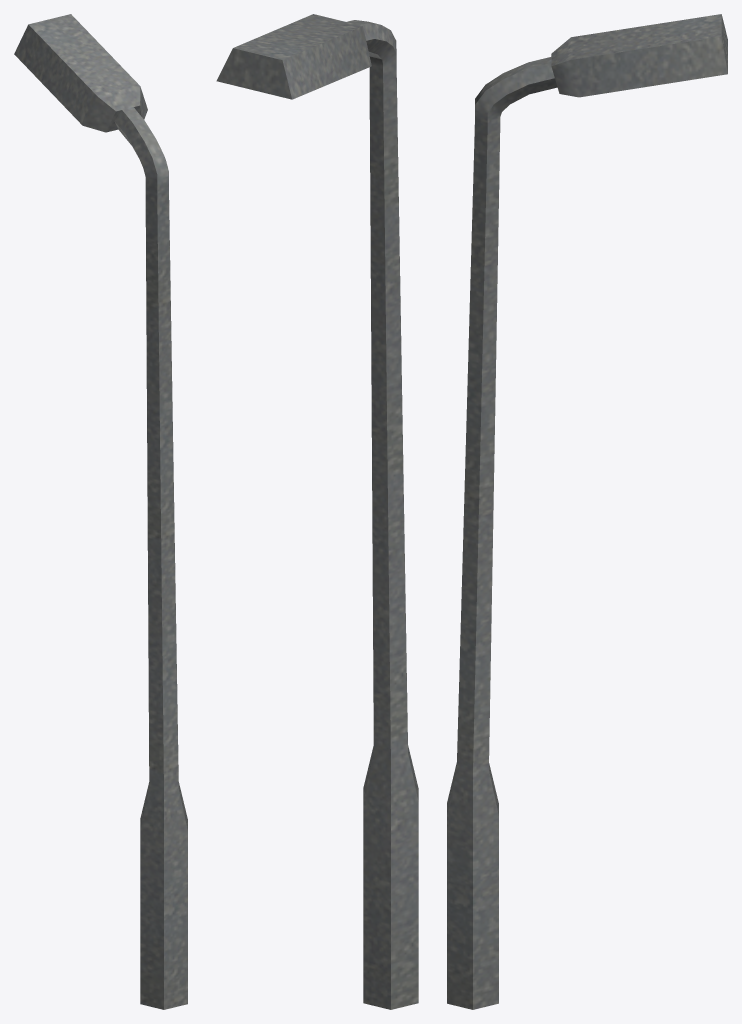
The model's file is lamp.obj.
The picture shows the model from 3 angles, left to right: view 1: azimuth 30°, elevation 25°; view 2: azimuth 150°, elevation 25°; view 3: azimuth 270°, elevation 25°; orthographic projection. The views are drawn at different scales.
Visible parts, largest first — view 1: Misc lamp_new_ok polySurface1; view 2: Misc lamp_new_ok polySurface1; view 3: Misc lamp_new_ok polySurface1.
Part boxes in pixels (x1,y1,x2,y2): Misc lamp_new_ok polySurface1: [14, 14, 187, 1009]; Misc lamp_new_ok polySurface1: [216, 14, 418, 1009]; Misc lamp_new_ok polySurface1: [447, 14, 727, 1009].
Size of the model in its own units: 0.4706 by 6.16 by 1.61.
Materials: 1 (1 with a texture image).
